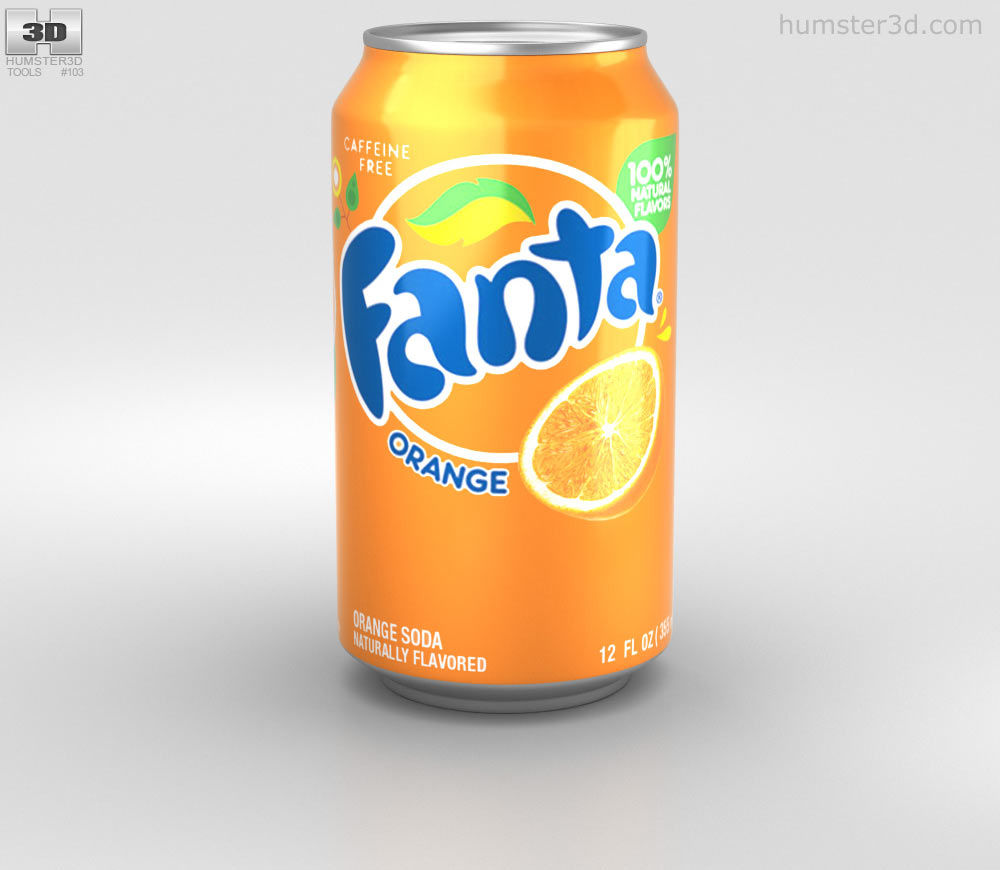fanta: (338, 33, 674, 698)
